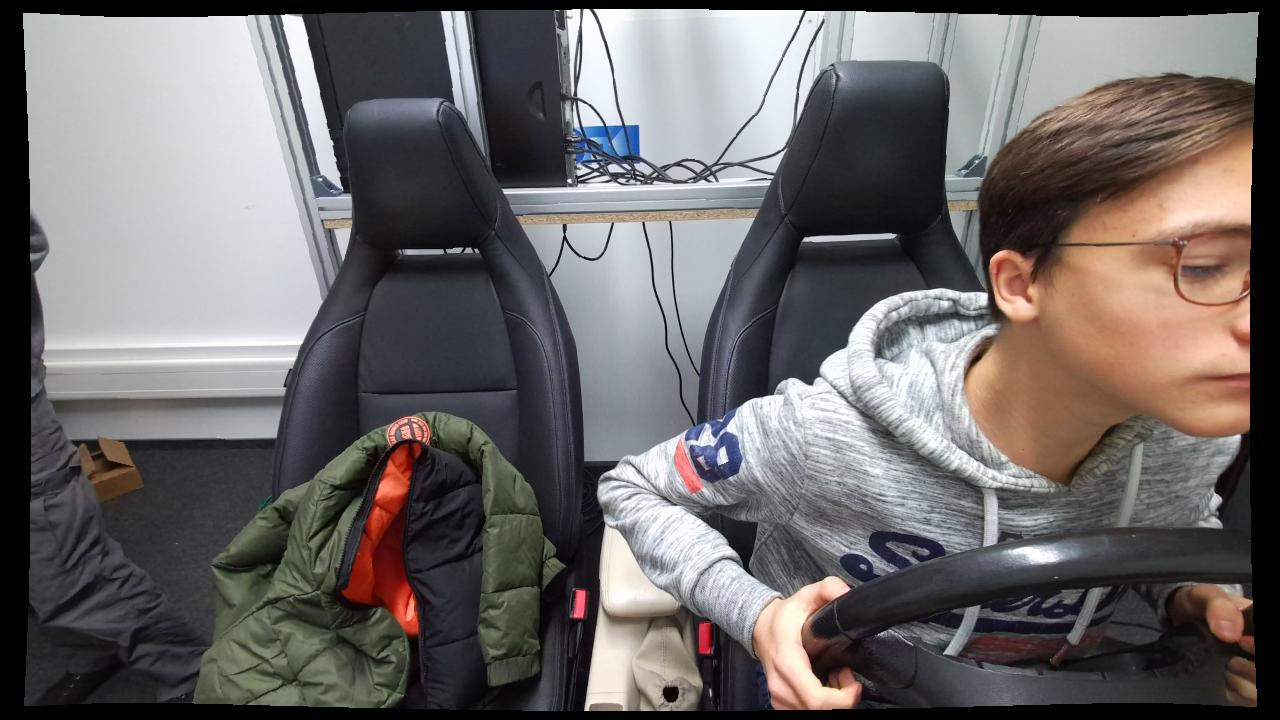Distracted: (591, 73, 1256, 717)
